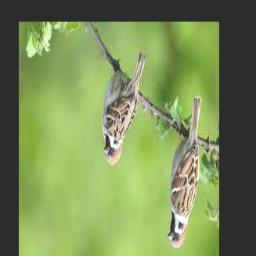Sparrow: (168, 96, 202, 249), (103, 52, 146, 166)
